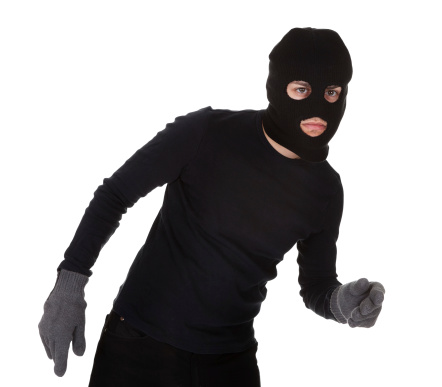thief: (152, 18, 405, 258), (260, 20, 359, 180)
